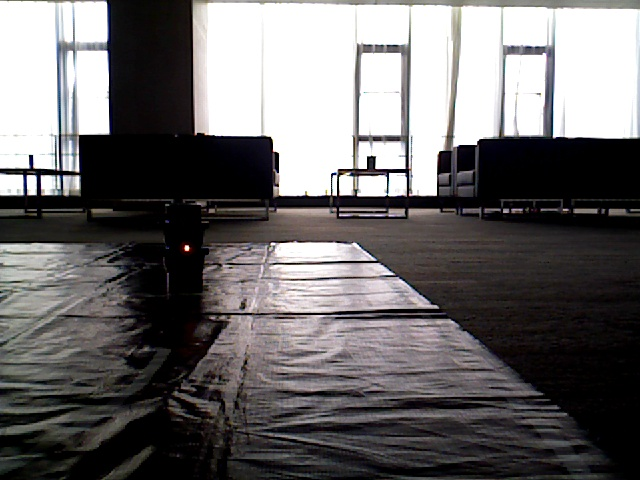yellow: (170, 200, 204, 287)
